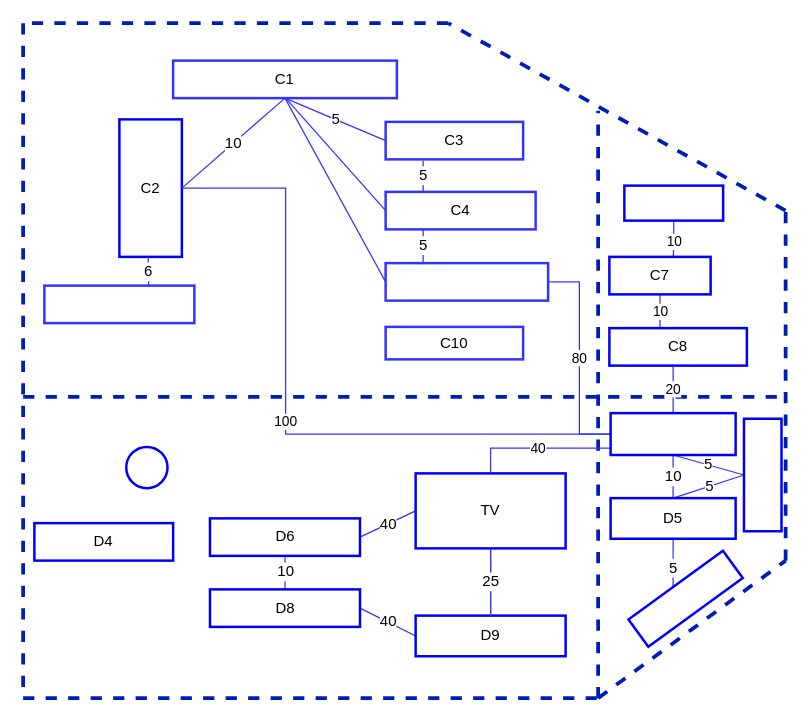
The diagram is 810 pixels wide and 723 high, and some of its shapes have lost their labels. The shapes that lost their labels are listed below. From the top down, each one's centre as x and y in pixels, then its label:
At (x=673, y=202): "C6".
At (x=466, y=281): "C5".
At (x=118, y=304): "C9".
At (x=672, y=433): "D3".
At (x=146, y=467): "D2".
At (x=762, y=474): "D3,5".
At (x=685, y=598): "D7".
